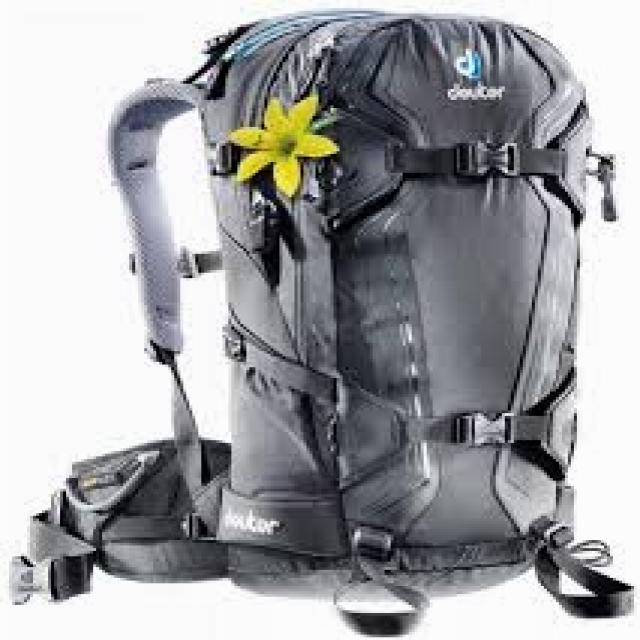backpack: (7, 7, 635, 633)
